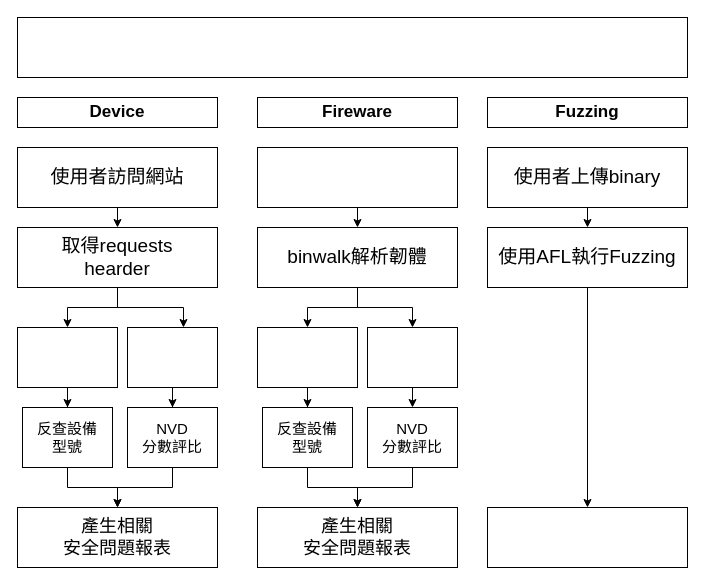
This 705x585 diagram has some shape labels left out. Here are the shapes that lost their labels. From the top down, the centre of each, then its label:
the point at 352,47: DFF檢測工具箱
the point at 357,177: 使用者上傳韌體
the point at 67,357: 比對 UA資料庫
the point at 172,357: 比對 CVE資料庫
the point at 307,357: 機敏資料比對
the point at 412,357: 提取檔案系統
the point at 587,537: 回傳每個觸發到 不同 Edge 的 Payload
